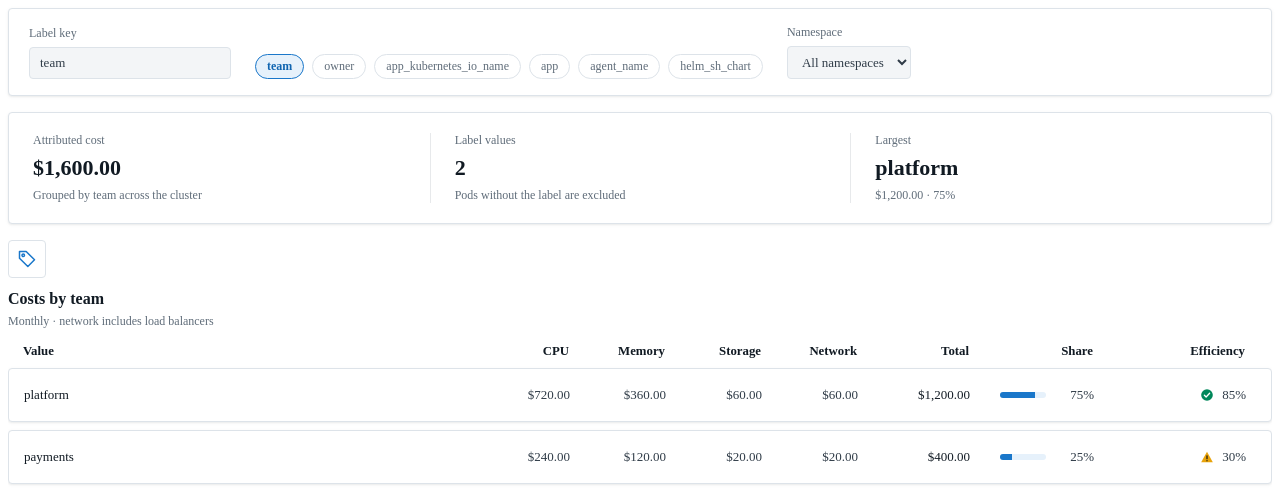
ChargebackView results › asks for a label key once the field is empty
Clear the field labelled "Label key" at (130, 63), box top-left (29, 47), bottom-right (231, 79)
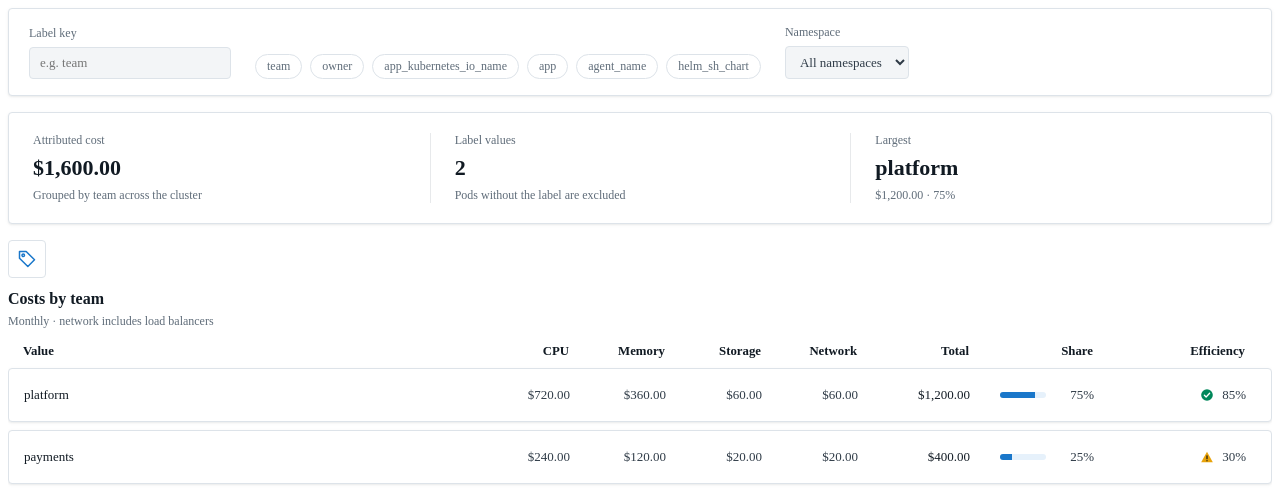
Press Enter in the field labelled "Label key", box top-left (29, 47), bottom-right (231, 79)
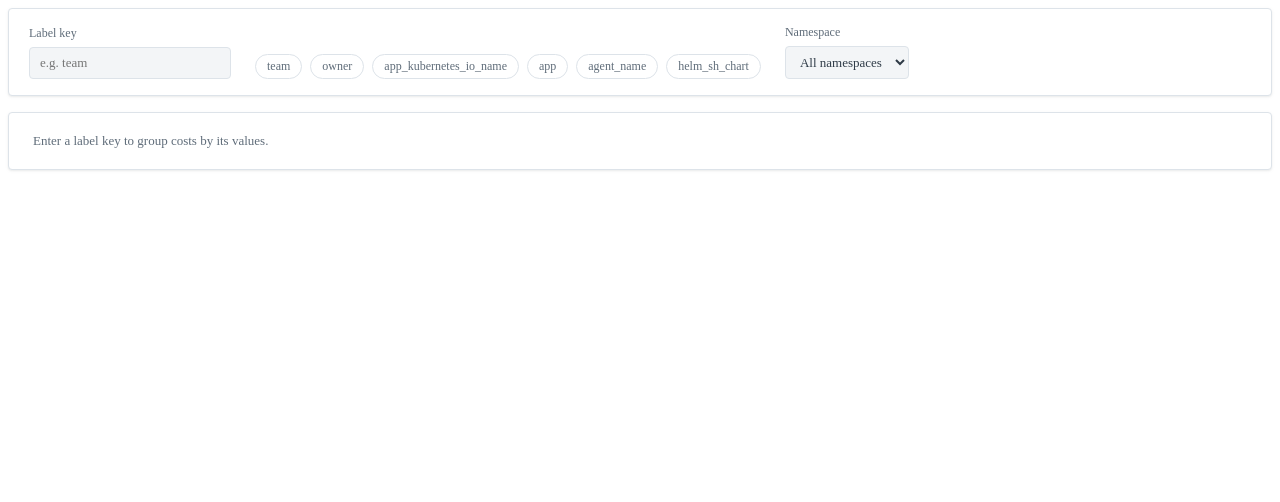
Expected: the text "Enter a label key to group costs by its values." is shown, top-left (8, 112), bottom-right (1272, 170)
